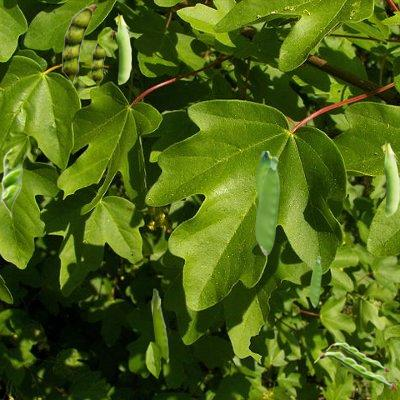pea: (314, 351, 396, 388), (62, 4, 96, 86), (0, 146, 38, 217), (255, 156, 278, 254), (326, 342, 388, 370), (91, 30, 114, 88), (151, 288, 168, 362), (381, 141, 398, 215), (114, 13, 130, 83), (257, 151, 272, 199), (309, 256, 320, 306)
